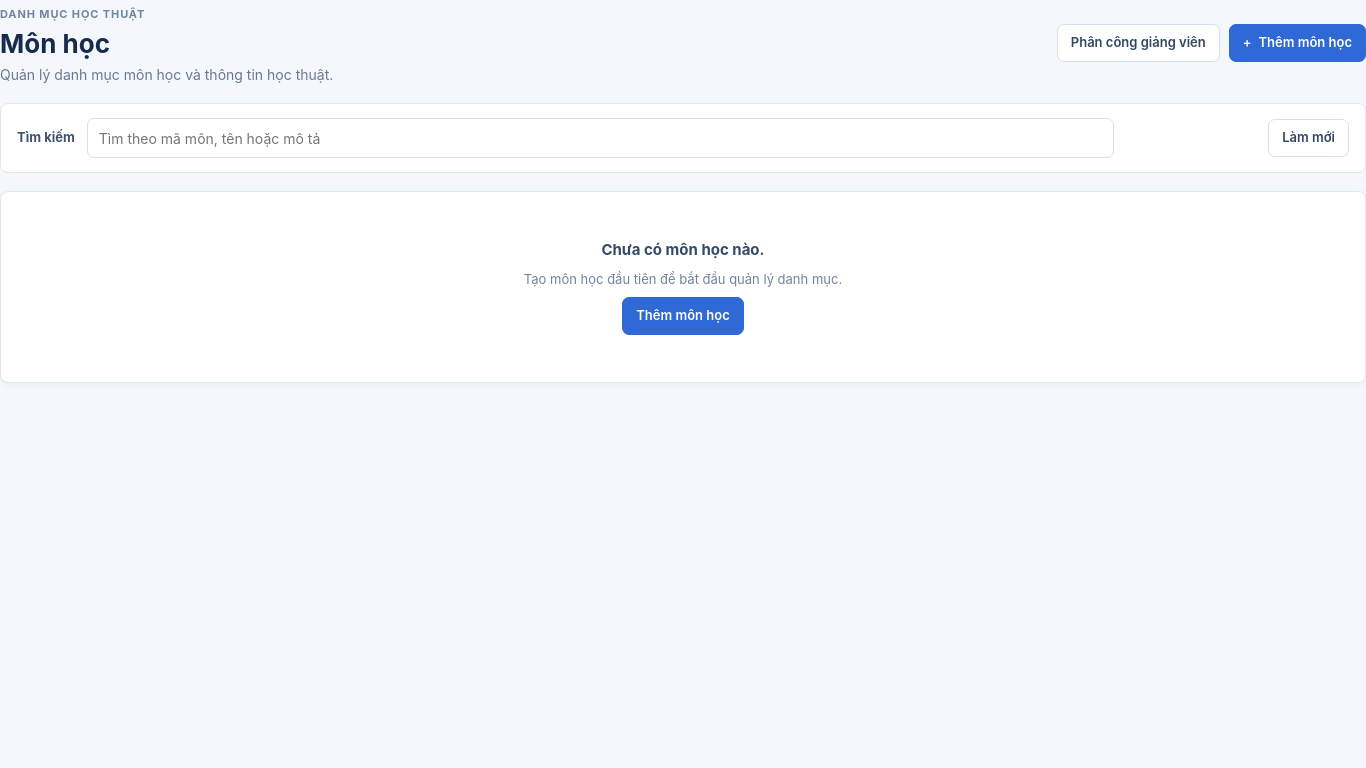
Scenario: SubjectsPage › creates a subject with all fields and uses the returned record in the list
Expected: the text "Chưa có môn học nào." is shown, left=601, top=239, right=764, bottom=262
Click the button "+ Thêm môn học": (1297, 43) left=1229, top=24, right=1365, bottom=62
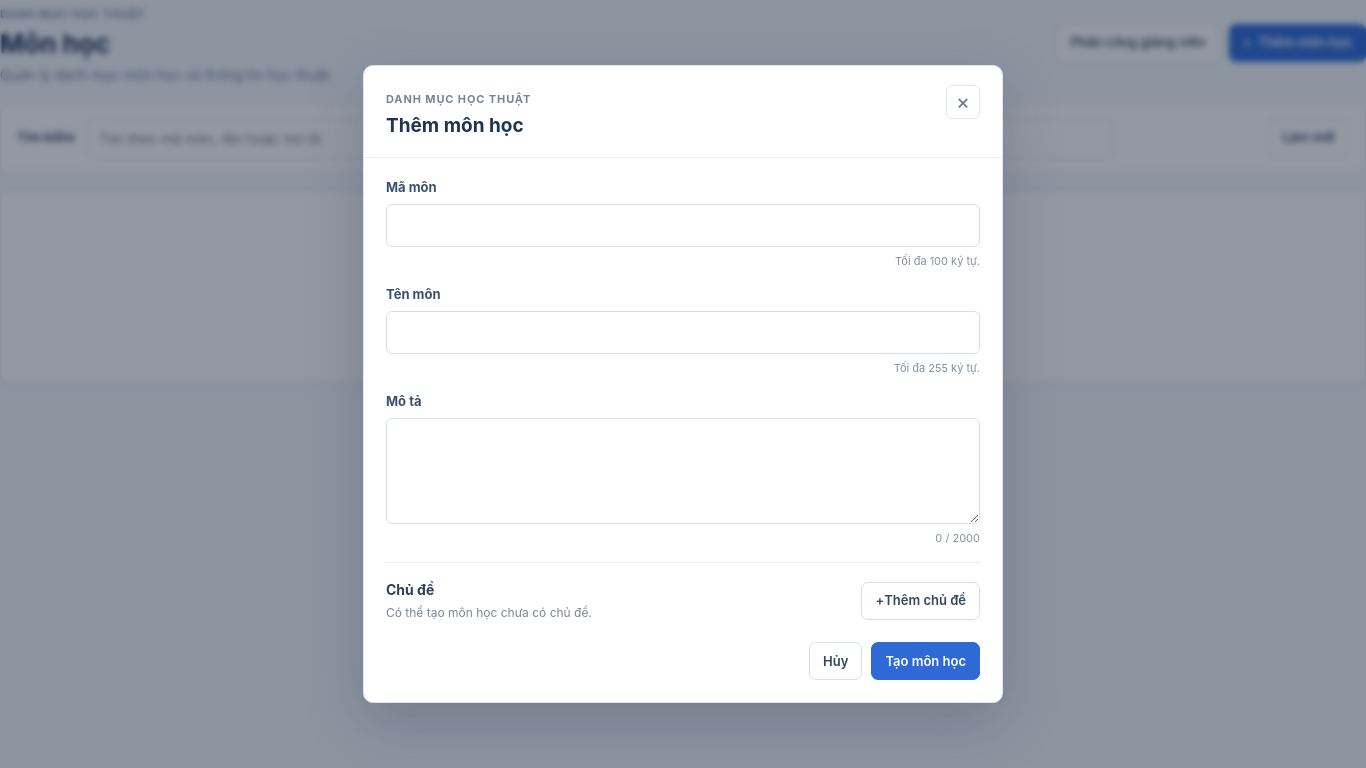
Click the button "Tạo môn học": (926, 661) left=871, top=642, right=980, bottom=680
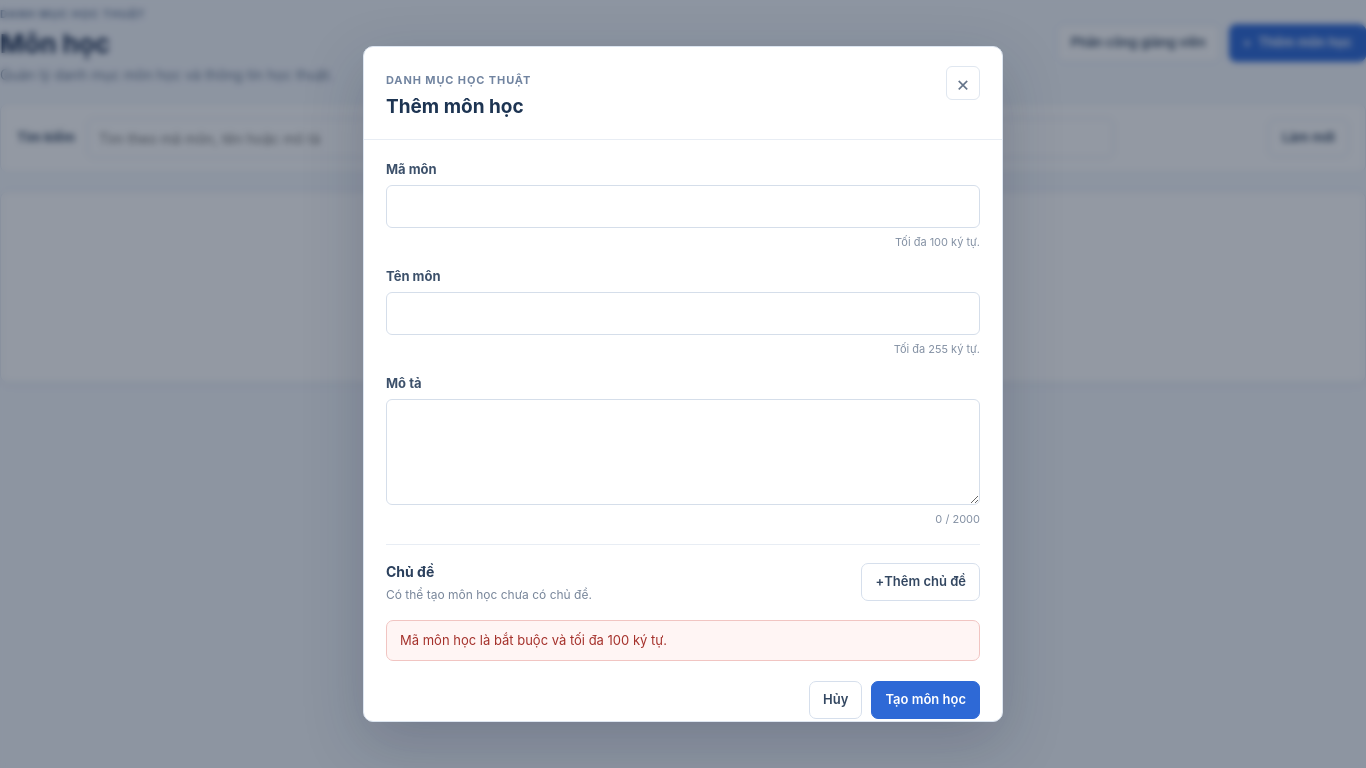
Result: the message shows "Mã môn học là bắt buộc" at left=400, top=632, right=667, bottom=648
In the field labelled "Mã môn": (683, 207) left=386, top=185, right=980, bottom=228, type "NEW101"
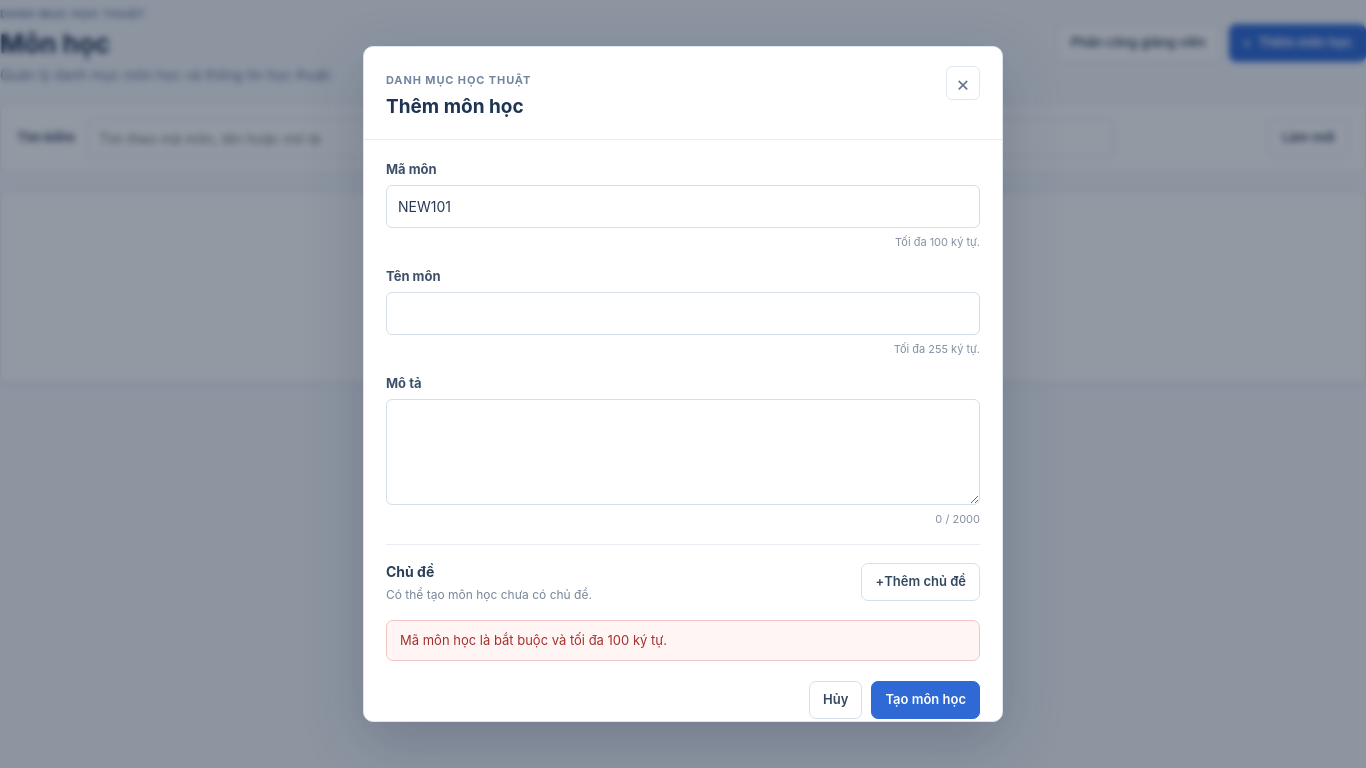
In the field labelled "Tên môn": (683, 314) left=386, top=292, right=980, bottom=335, type "New Subject"
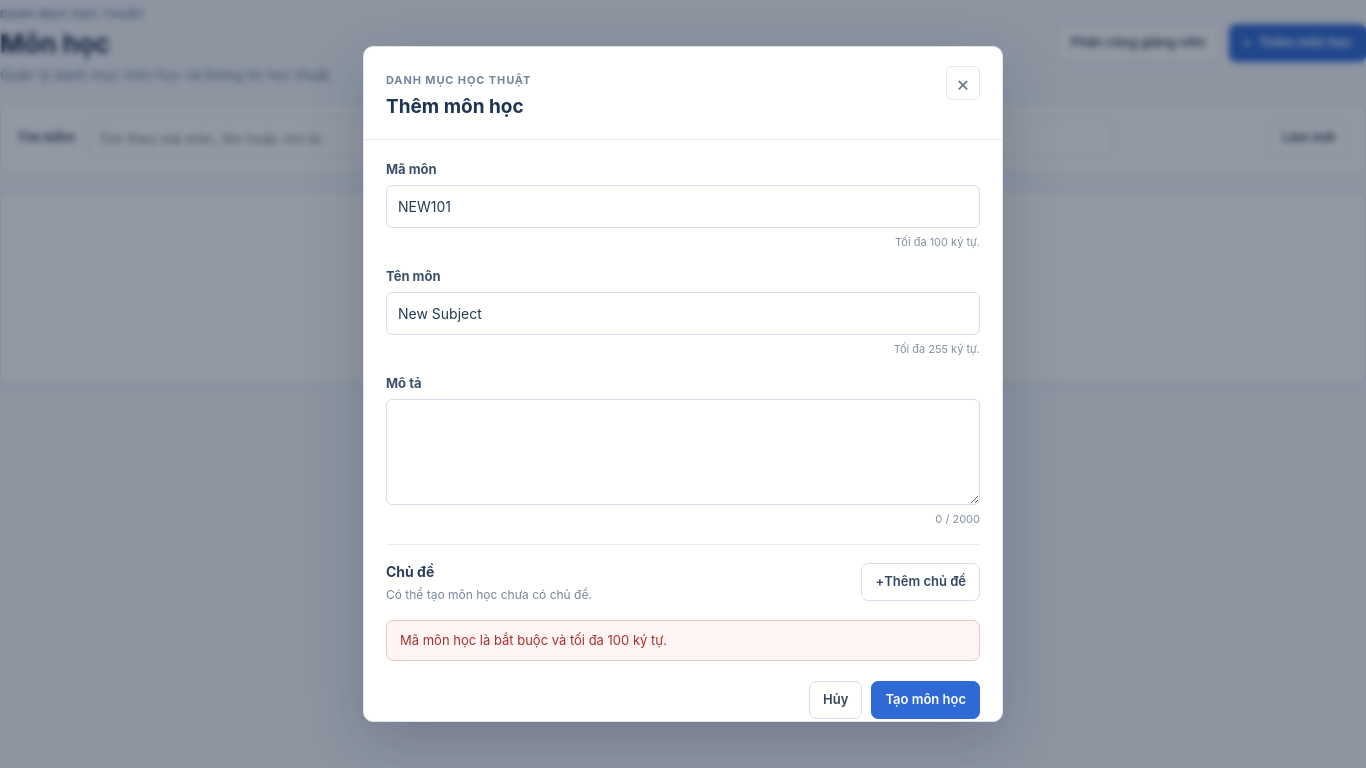
Click the button "Tạo môn học": (926, 700) left=871, top=681, right=980, bottom=719
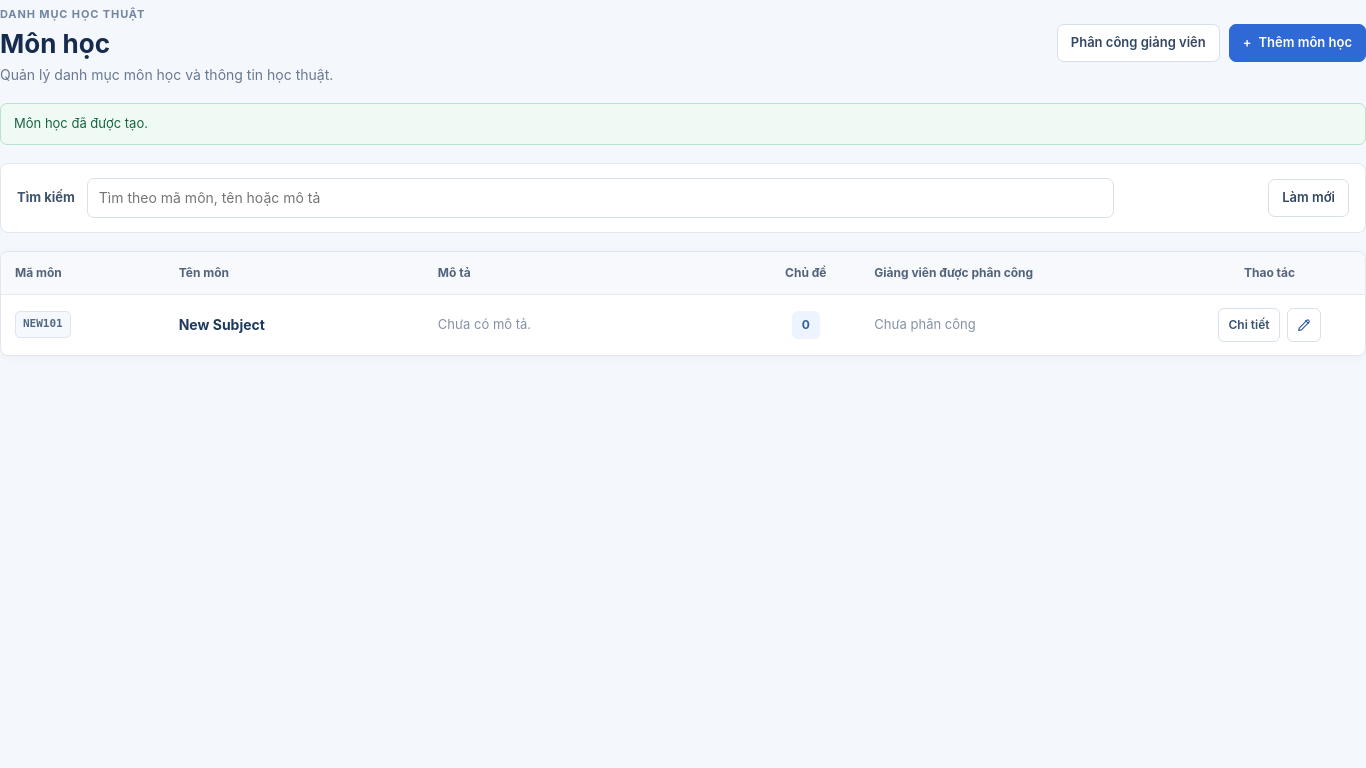
Result: the text "NEW101" is shown at left=15, top=311, right=71, bottom=338
Result: the button "New Subject" is shown at left=179, top=314, right=265, bottom=335
